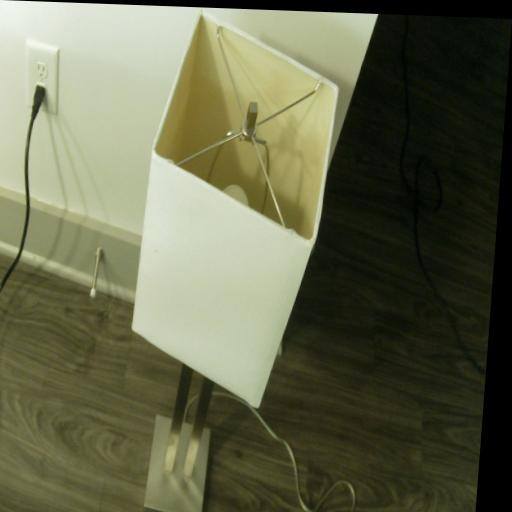lamp: (117, 10, 345, 512)
